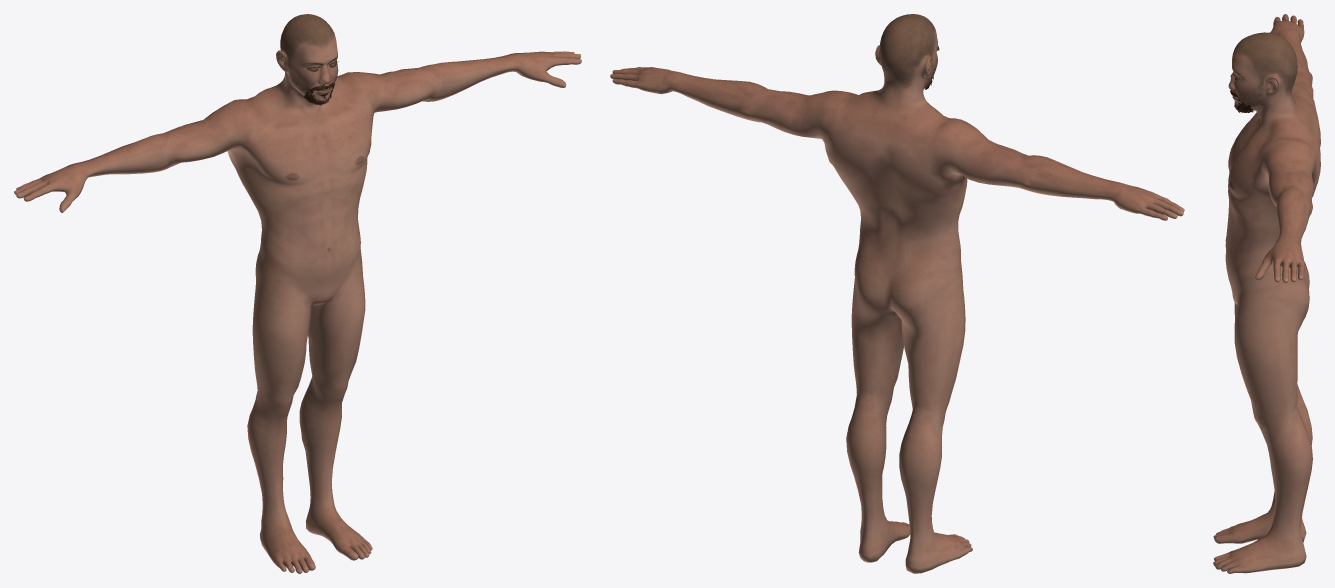
Rendered from ottomansoldier4.obj.
3 renders of one model, left to right at view 1: azimuth 30°, elevation 25°; view 2: azimuth 150°, elevation 25°; view 3: azimuth 270°, elevation 25°, orthographic. The views are drawn at different scales.
Parts seen in each view (by area): view 1: Body; view 2: Body; view 3: Body.
Boxes of the visible parts, <box> form: Body: <box>14,14,581,573</box>; Body: <box>610,14,1184,573</box>; Body: <box>1213,14,1320,573</box>.
Bounding box in the file's own units: 199 × 179 × 33.74.
Materials: 2 (2 with a texture image).
